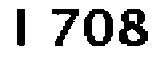0: (83, 7, 115, 50)
7: (48, 5, 82, 51)
8: (116, 7, 151, 48)
l: (7, 4, 36, 54)
